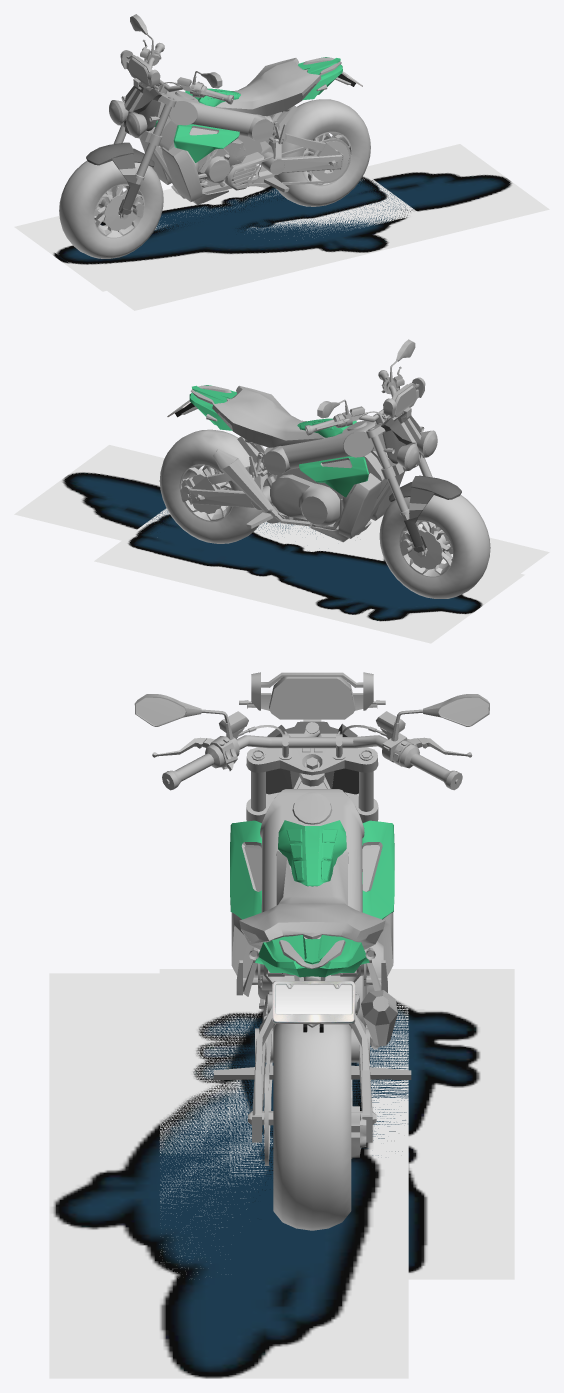
The model's file is bike8.fbx.
3 views of the same model, one above another, from view 1: azimuth 30°, elevation 25°; view 2: azimuth 150°, elevation 25°; view 3: azimuth 270°, elevation 25° (orthographic). The views are drawn at different scales.
Parts seen in each view (by area): view 1: Shadow_SunSet, Chrome_AI, Shadow_DayLight, Tyre_F, SteeringLights_AI, Tyre_B, Body_AI, SteeringBody_AI, Rim_F, Rim_B; view 2: Shadow_DayLight, Chrome_AI, Shadow_SunSet, Tyre_F, SteeringLights_AI, Tyre_B, Body_AI, SteeringBody_AI, Rim_F, Rim_B; view 3: Shadow_SunSet, Shadow_DayLight, Chrome_AI, SteeringLights_AI, Tyre_B, Body_AI, Plate, Mirror_AI, SteeringBody_AI.
Part boxes in pixels (left/top/right/bottom): Shadow_SunSet: left=45, top=144, right=549, bottom=310; Chrome_AI: left=140, top=57, right=351, bottom=205; Shadow_DayLight: left=14, top=166, right=420, bottom=291; Tyre_F: left=59, top=160, right=163, bottom=258; SteeringLights_AI: left=109, top=14, right=233, bottom=219; Tyre_B: left=268, top=99, right=370, bottom=206; Body_AI: left=154, top=57, right=342, bottom=162; SteeringBody_AI: left=86, top=82, right=161, bottom=214; Rim_F: left=94, top=183, right=144, bottom=238; Rim_B: left=302, top=131, right=352, bottom=186; Shadow_DayLight: left=94, top=506, right=524, bottom=643; Chrome_AI: left=180, top=385, right=404, bottom=542; Shadow_SunSet: left=14, top=445, right=549, bottom=573; Tyre_F: left=379, top=495, right=490, bottom=598; SteeringLights_AI: left=305, top=339, right=437, bottom=557; Tyre_B: left=159, top=429, right=268, bottom=543; Body_AI: left=189, top=385, right=368, bottom=497; SteeringBody_AI: left=381, top=412, right=461, bottom=552; Rim_F: left=399, top=519, right=453, bottom=577; Rim_B: left=179, top=464, right=232, bottom=522; Shadow_SunSet: left=49, top=973, right=408, bottom=1378; Shadow_DayLight: left=159, top=969, right=514, bottom=1279; Chrome_AI: left=213, top=776, right=411, bottom=1165; SteeringLights_AI: left=134, top=672, right=489, bottom=822; Tyre_B: left=273, top=1024, right=351, bottom=1230; Body_AI: left=230, top=820, right=394, bottom=977; Plate: left=272, top=980, right=355, bottom=1024; Mirror_AI: left=136, top=697, right=488, bottom=725; SteeringBody_AI: left=266, top=721, right=358, bottom=794.
Bounding box in the file's own units: 295 × 130 × 141.
